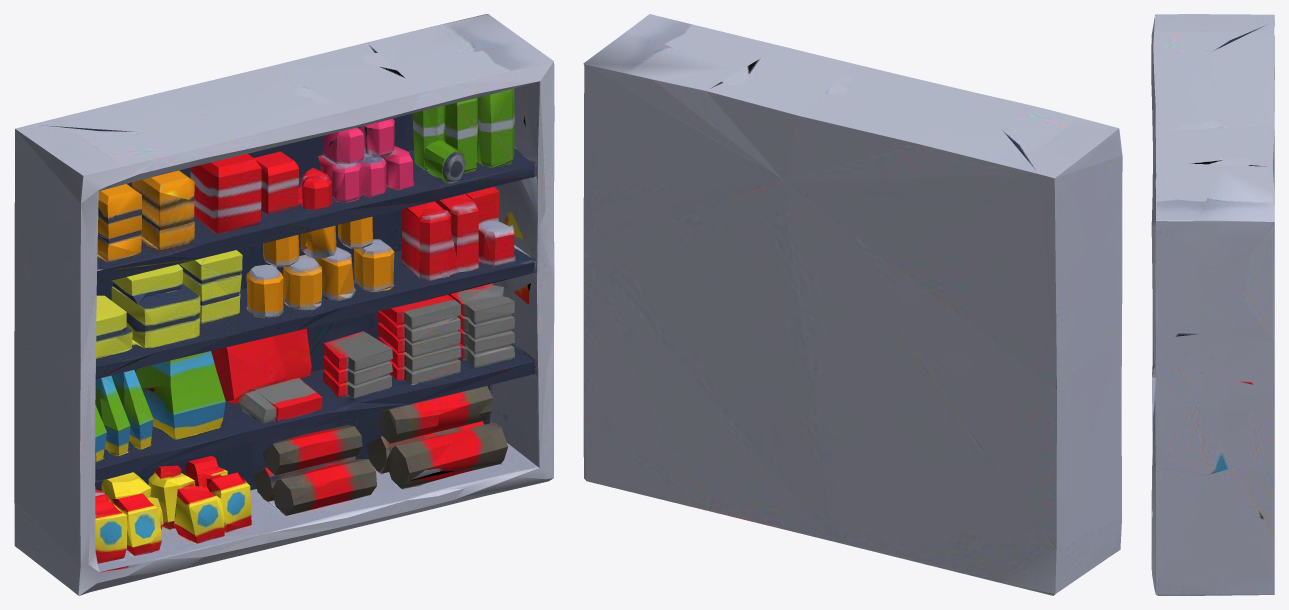
The model's file is shop-wallshelf.glb.
3 renders of one model, left to right at view 1: azimuth 30°, elevation 25°; view 2: azimuth 150°, elevation 25°; view 3: azimuth 270°, elevation 25°, orthographic. The views are drawn at different scales.
Visible parts, largest first — view 1: output_unwrapped; view 2: output_unwrapped; view 3: output_unwrapped.
Part boxes in pixels (x1,y1,x2,y2): output_unwrapped: [14, 14, 554, 595]; output_unwrapped: [583, 14, 1122, 595]; output_unwrapped: [1151, 14, 1274, 595].
Size of the model in its own units: 1.9 by 1.61 by 0.4781.
Materials: 1 (1 with a texture image).
